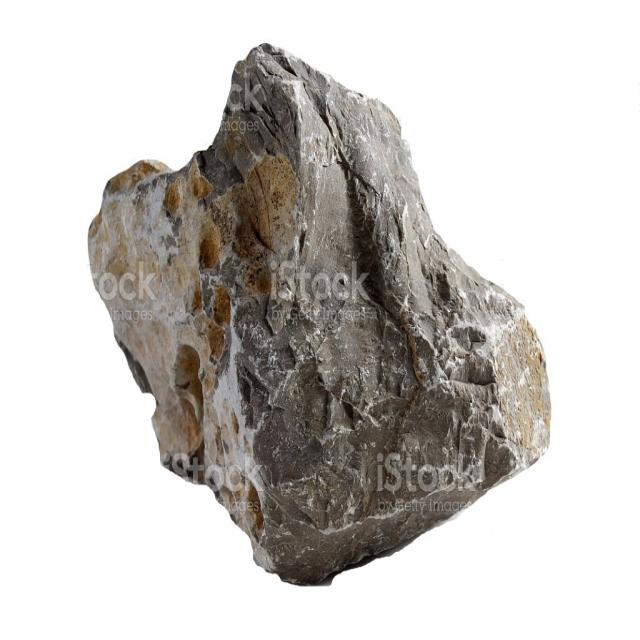Igneous: (61, 21, 576, 598)
